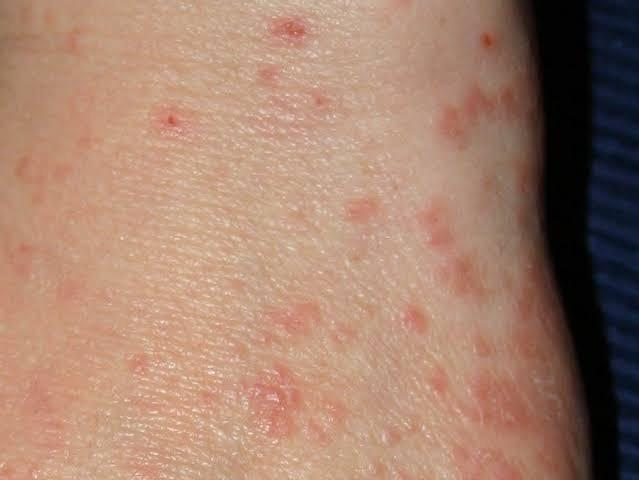Scabies: (219, 303, 356, 439), (417, 361, 533, 437), (412, 194, 498, 292), (432, 66, 518, 149), (245, 7, 322, 94), (139, 96, 202, 151), (397, 286, 443, 354), (335, 179, 389, 232)
